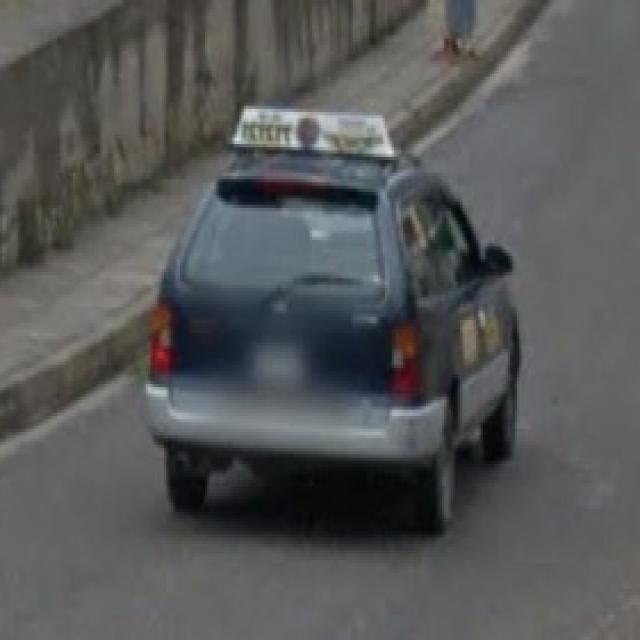car: (143, 105, 523, 533)
